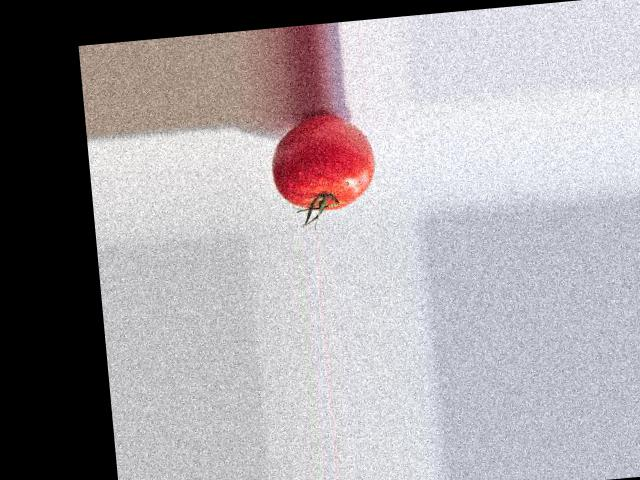tomato: (268, 110, 379, 213)
